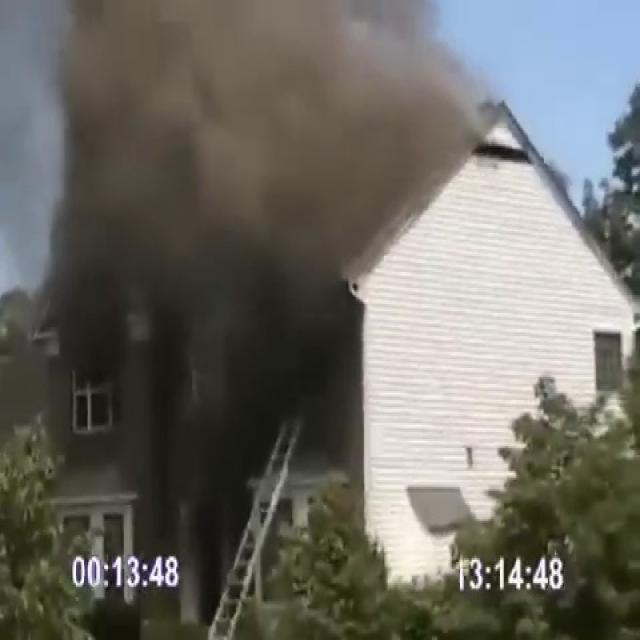Smoke: (2, 0, 479, 328)
